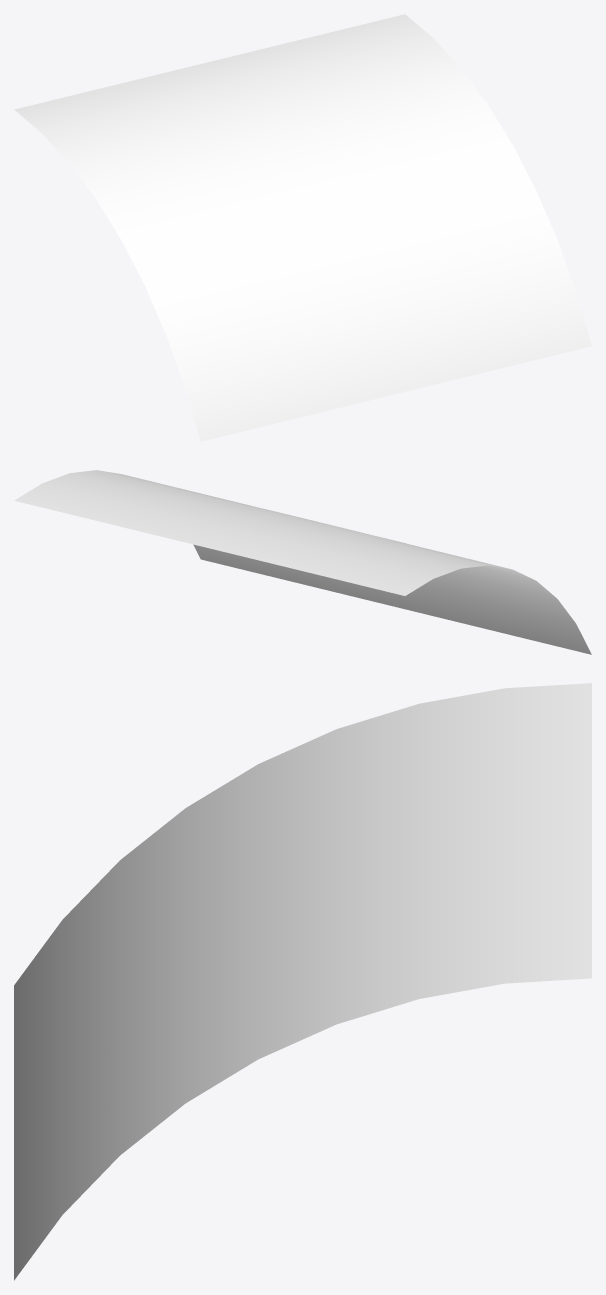
Rendered from grd_F_O_1.dae.
3 views of the same model, one above another, from view 1: azimuth 30°, elevation 25°; view 2: azimuth 150°, elevation 25°; view 3: azimuth 270°, elevation 25° (orthographic). The views are drawn at different scales.
Parts seen in each view (by area): view 1: grd_F_O_1; view 2: grd_F_O_1; view 3: grd_F_O_1.
Boxes of the visible parts, x1,y1,x2,y2 form: grd_F_O_1: [14, 14, 591, 441]; grd_F_O_1: [14, 470, 591, 654]; grd_F_O_1: [14, 683, 591, 1280].
Size of the model in its own units: 512 by 244 by 423.
2 materials, 1 textured.
